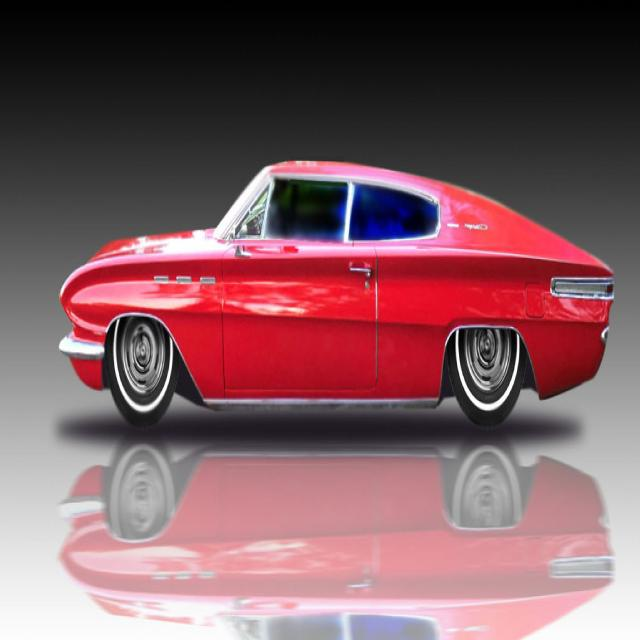car: (57, 156, 614, 430)
